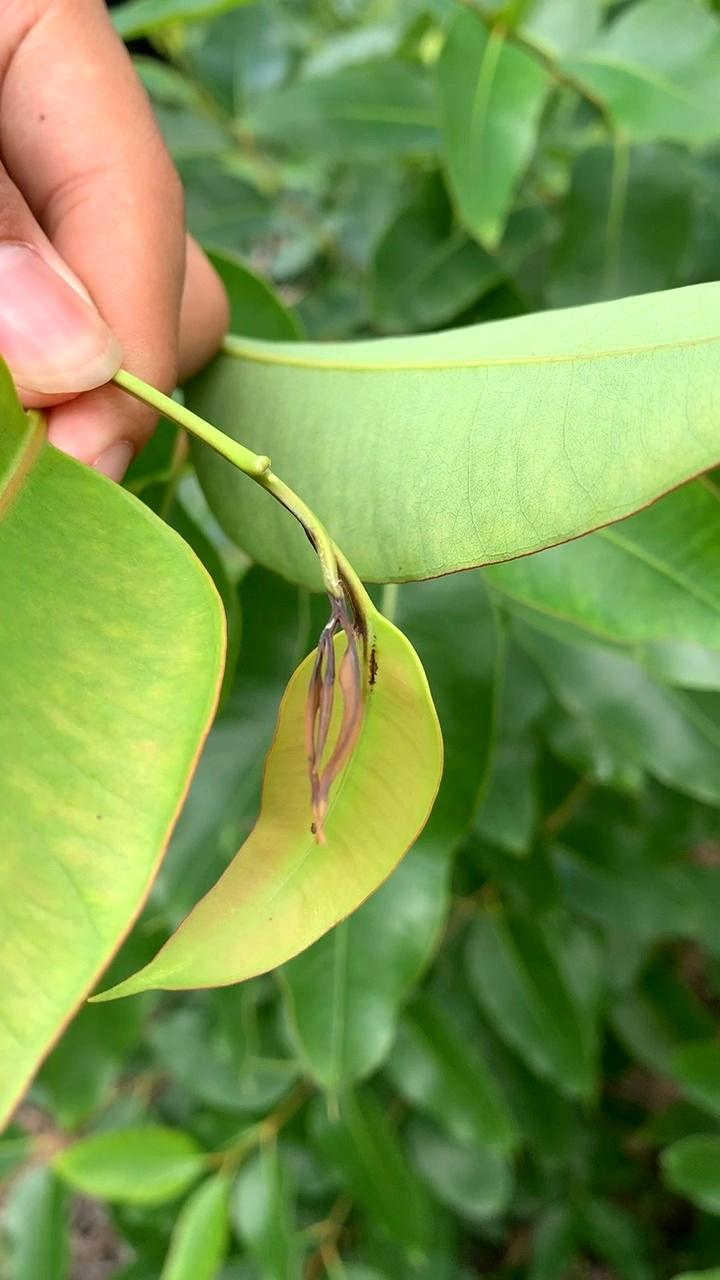Helopeltis-Withered Sprout: (296, 600, 397, 853)
